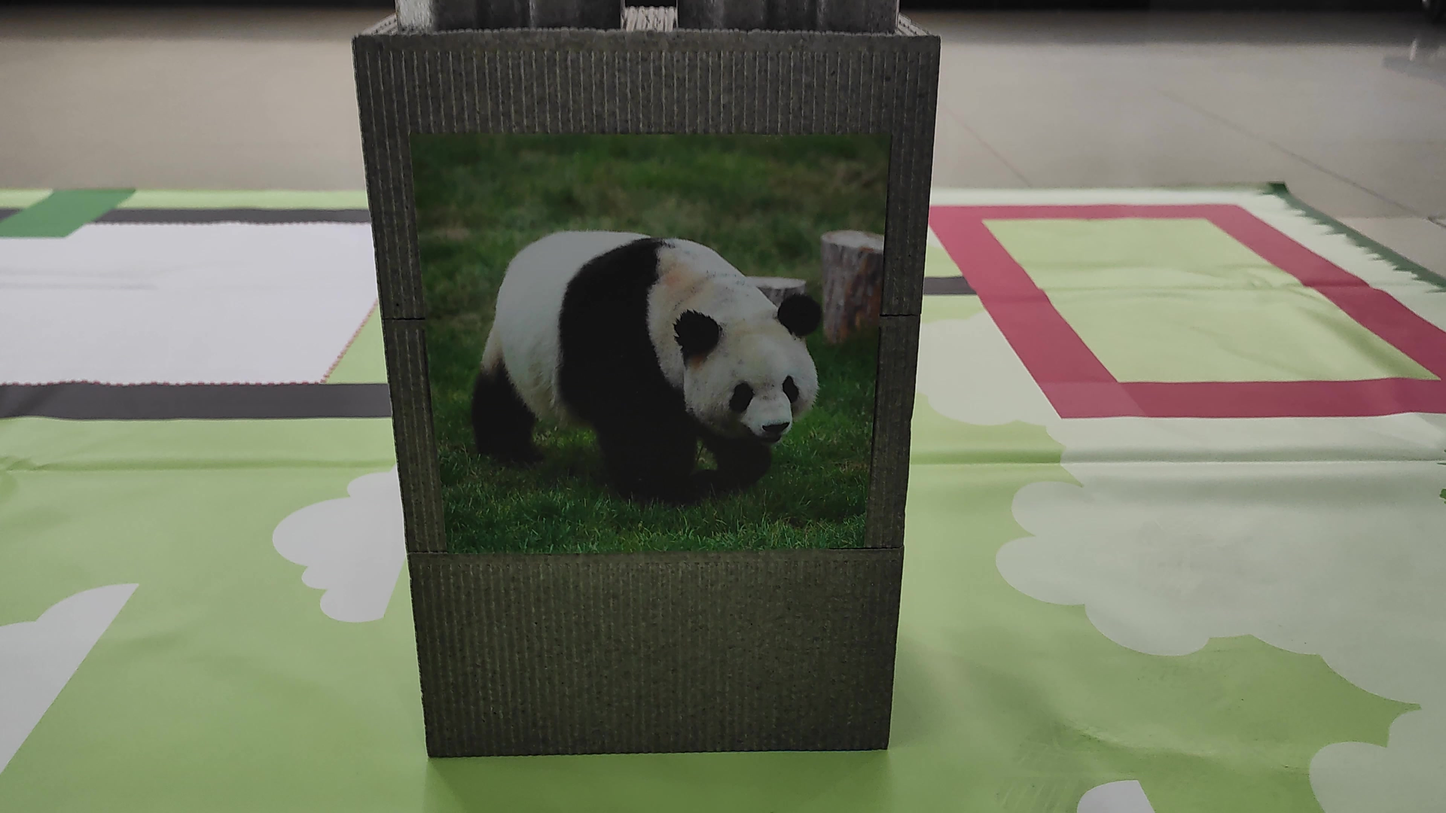panda: (445, 195, 839, 499)
